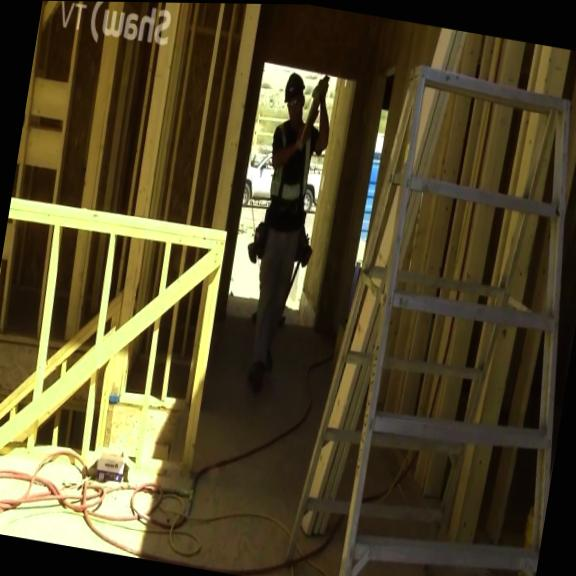safety_vest: (265, 114, 317, 205)
